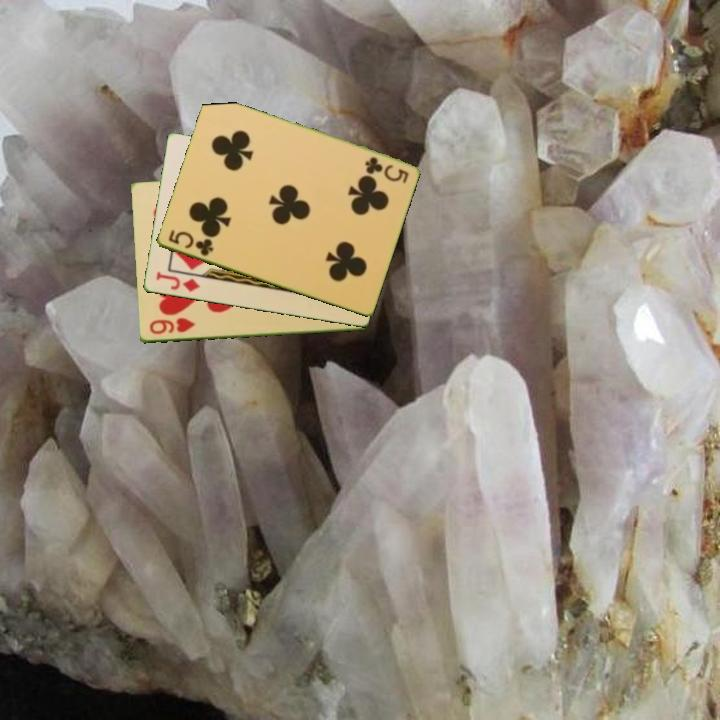5c: (165, 226, 216, 259), (361, 153, 411, 186)
9h: (146, 314, 198, 337)
Jd: (152, 268, 203, 295)
